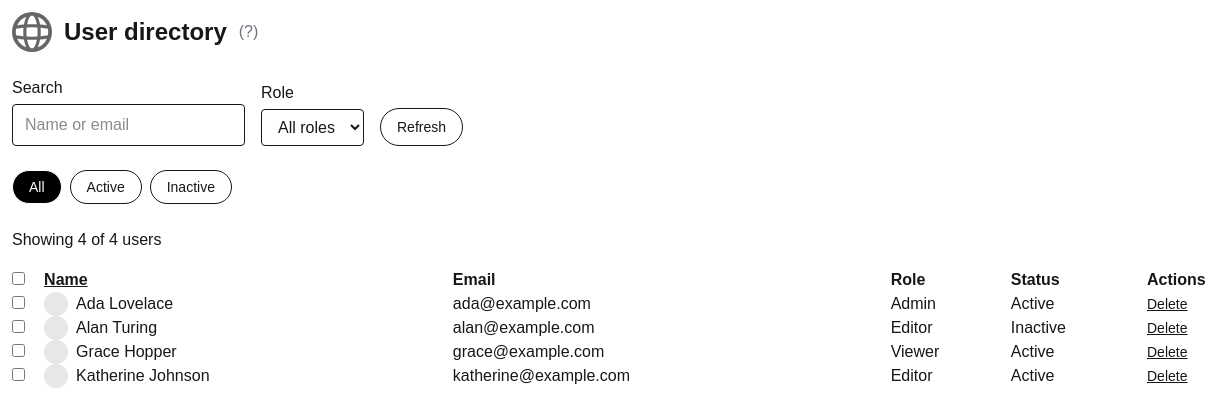
it: row selection › drops the selection when the query changes
Click the checkbox named "Select Ada Lovelace".
click(18, 302)  # box left=12, top=296, right=25, bottom=309
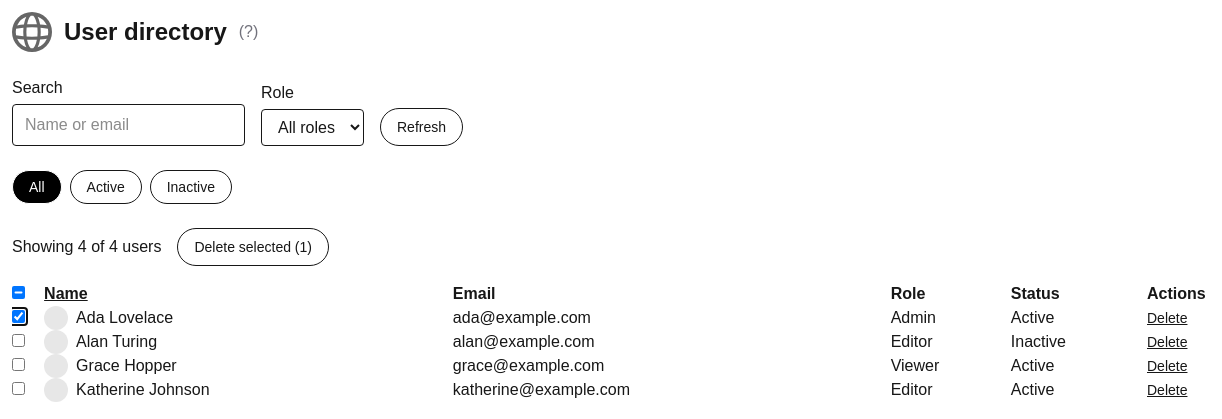
Expected: the button "Delete selected (1)" is shown, left=178, top=228, right=329, bottom=266
Type "grace" into the search field labelled "Search".
click(128, 125); type("grace")  # box left=12, top=104, right=245, bottom=146
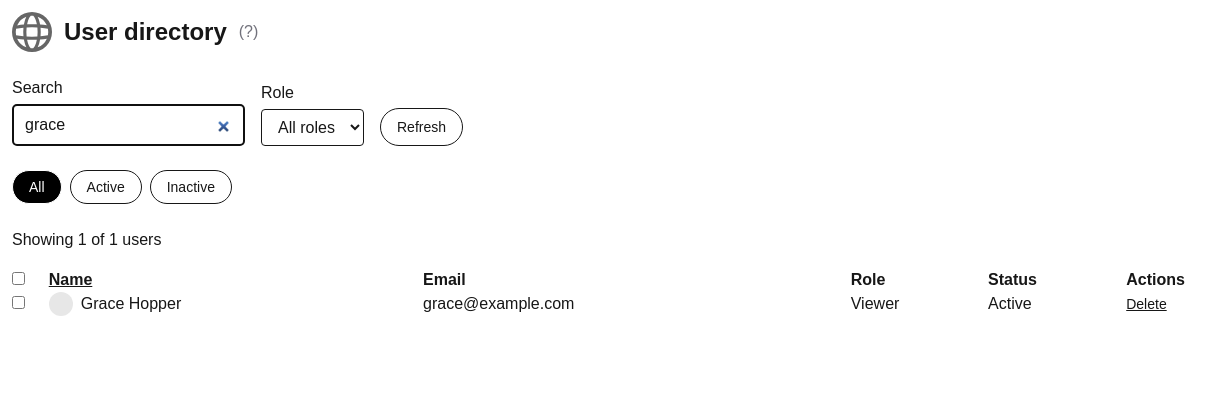
Expected: the button "Delete selected" is gone
